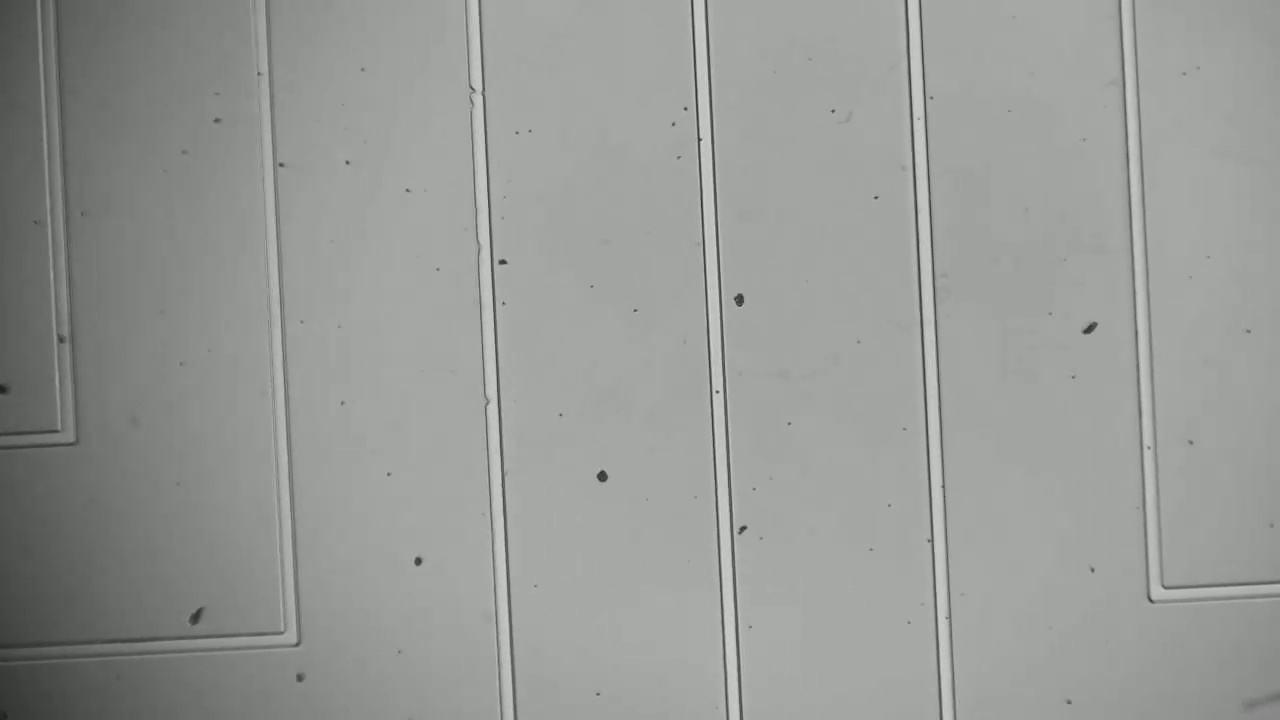edge_bite: (461, 77, 493, 112), (468, 233, 499, 265), (477, 391, 503, 414)
